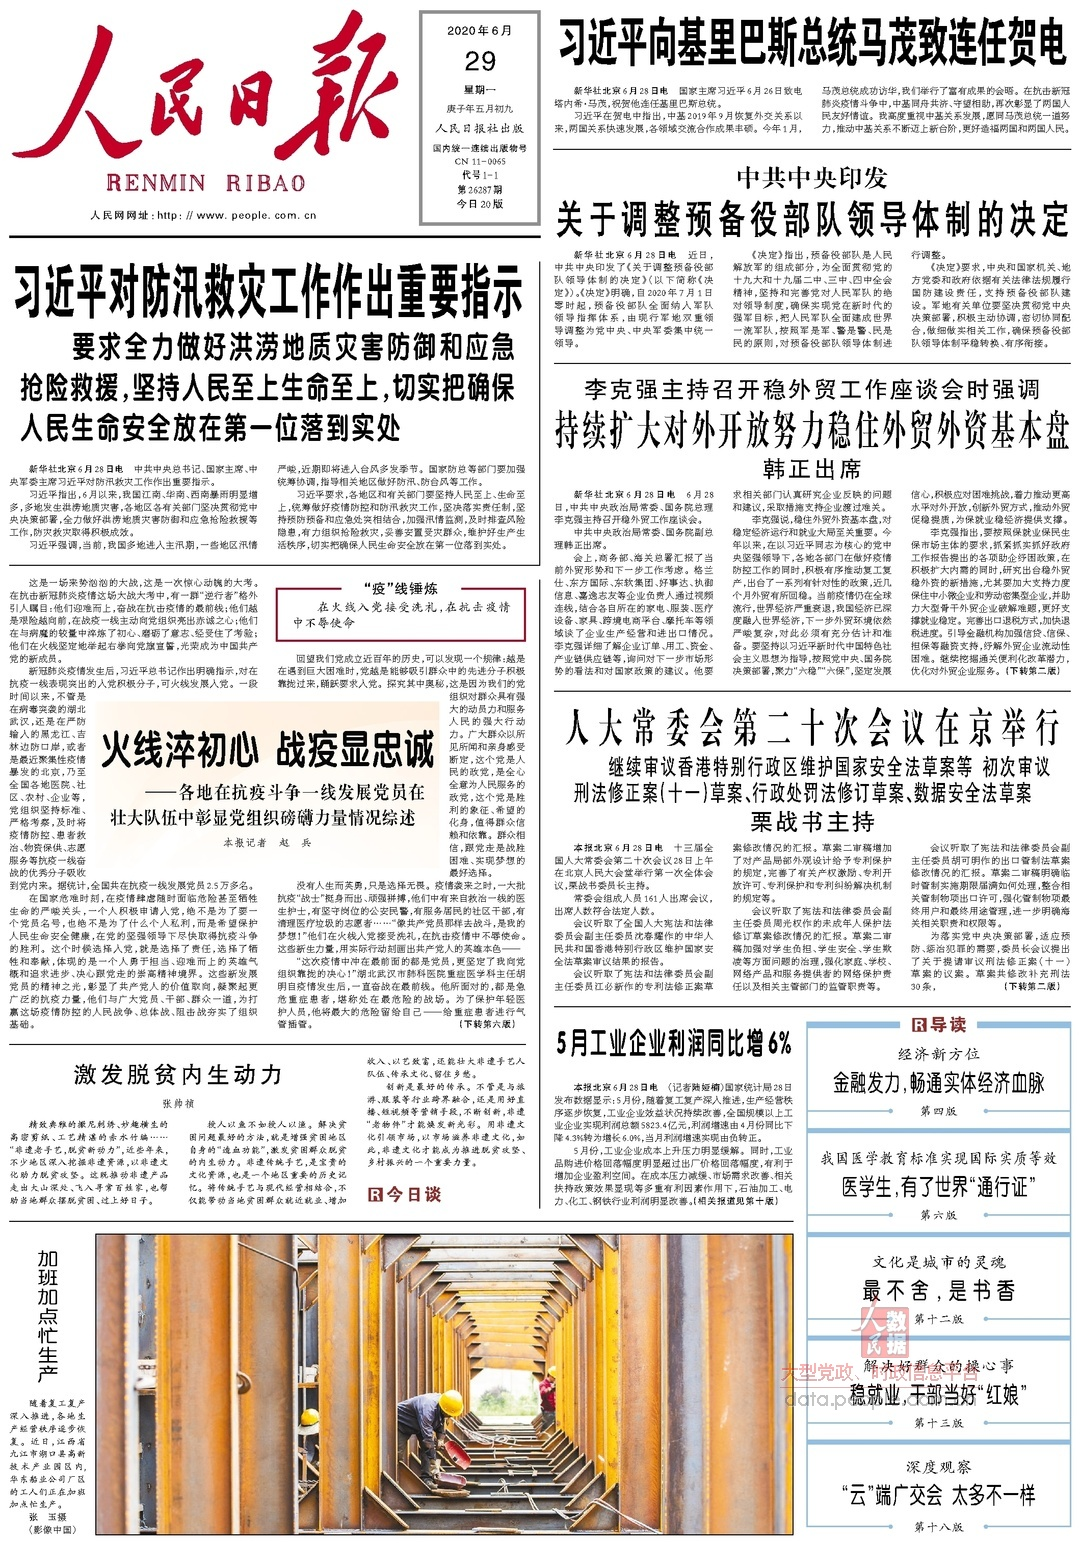pic: (90, 1226, 802, 1543)
